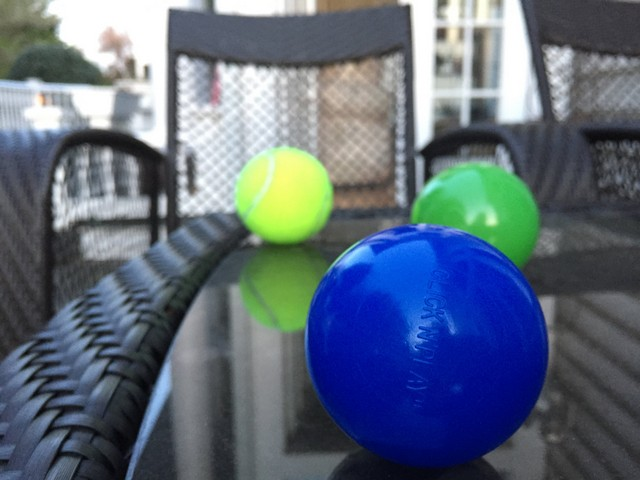Ball: (228, 147, 333, 251)
